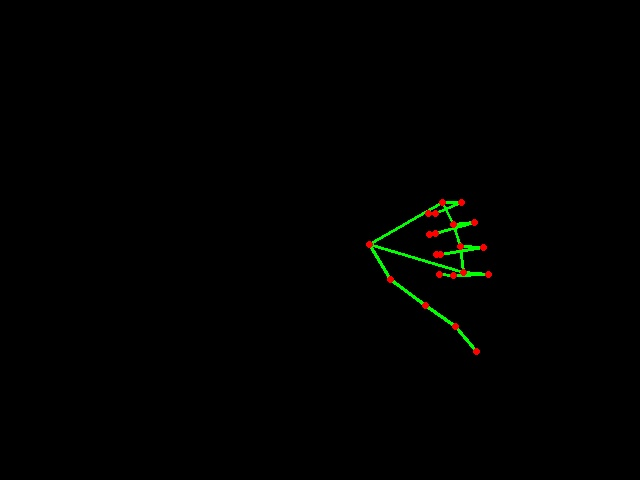slow: (349, 173, 501, 370)
